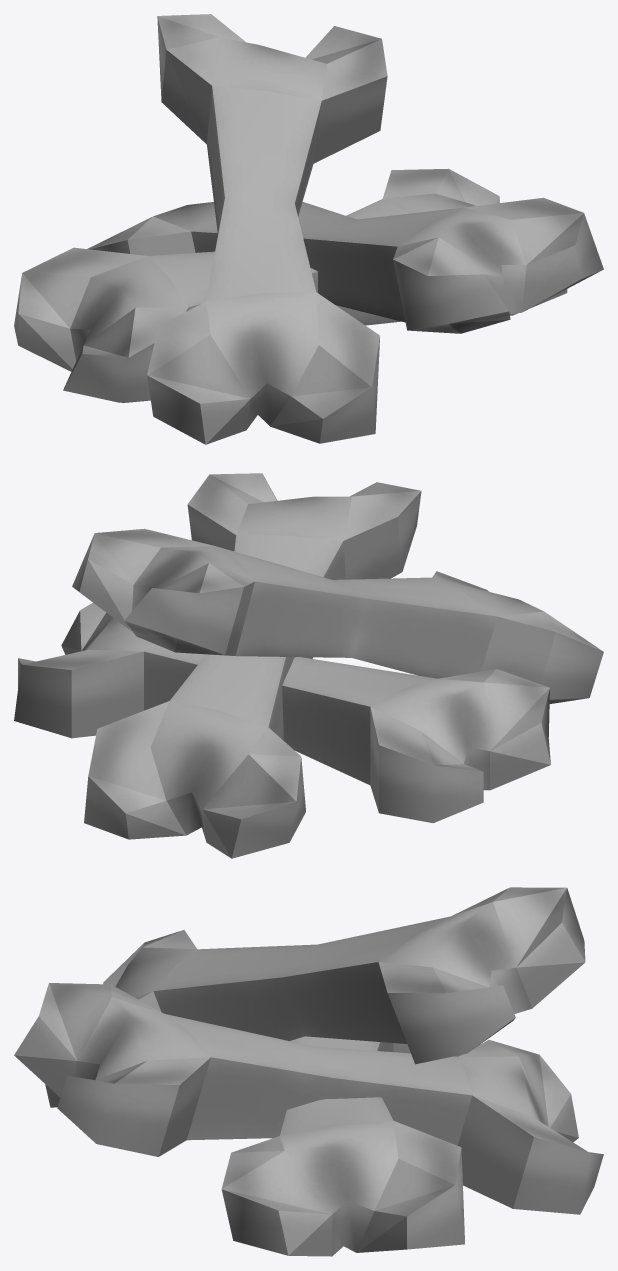
The model's file is 뼈다귀.fbx.
3 views of the same model, one above another, from view 1: azimuth 30°, elevation 25°; view 2: azimuth 150°, elevation 25°; view 3: azimuth 270°, elevation 25° (orthographic). The views are drawn at different scales.
Parts seen in each view (by area): view 1: Box001; view 2: Box001; view 3: Box001.
Boxes of the visible parts, box(x1,y1,x2,y2) form: Box001: box(14, 14, 603, 444); Box001: box(14, 473, 603, 858); Box001: box(14, 887, 603, 1256).
Size of the model in its own units: 70.34 by 35.88 by 68.51.
